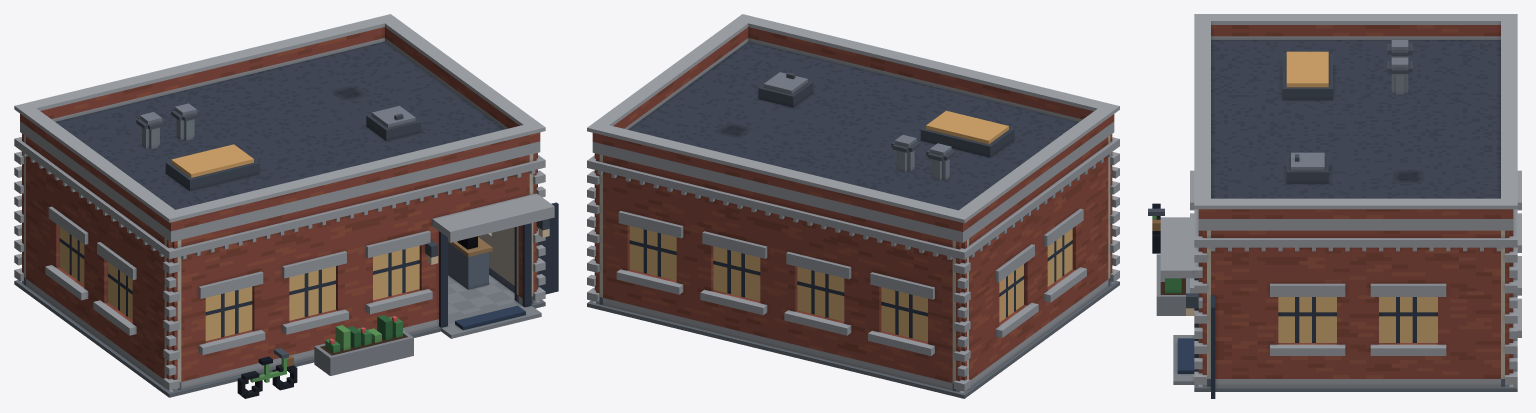
The model's file is control_e2_l1.glb.
The picture shows the model from 3 angles, left to right: view 1: azimuth 30°, elevation 25°; view 2: azimuth 150°, elevation 25°; view 3: azimuth 270°, elevation 25°; orthographic projection. The views are drawn at different scales.
Parts seen in each view (by area): view 1: CutRoof, CutPZ, Base, CutNX, CutNZ, CutPX; view 2: CutRoof, CutNZ, Base, CutNX, CutPZ; view 3: CutRoof, CutPX, Base, CutPZ, CutNZ.
Part boxes in pixels (<box>): CutRoof: <box>14,14,545,242</box>; CutPZ: <box>163,153,558,361</box>; Base: <box>14,235,558,398</box>; CutNX: <box>18,136,168,352</box>; CutNZ: <box>14,133,25,252</box>; CutPX: <box>481,155,541,259</box>; CutRoof: <box>587,14,1119,242</box>; CutNZ: <box>587,153,970,362</box>; Base: <box>587,252,1119,398</box>; CutNX: <box>965,137,1115,353</box>; CutPZ: <box>1108,134,1119,253</box>; CutRoof: <box>1194,14,1517,230</box>; CutPX: <box>1202,230,1509,355</box>; Base: <box>1148,203,1517,398</box>; CutPZ: <box>1160,170,1215,364</box>; CutNZ: <box>1501,170,1521,353</box>.
Bounding box in the file's own units: 11.5 × 5.2 × 8.9.
